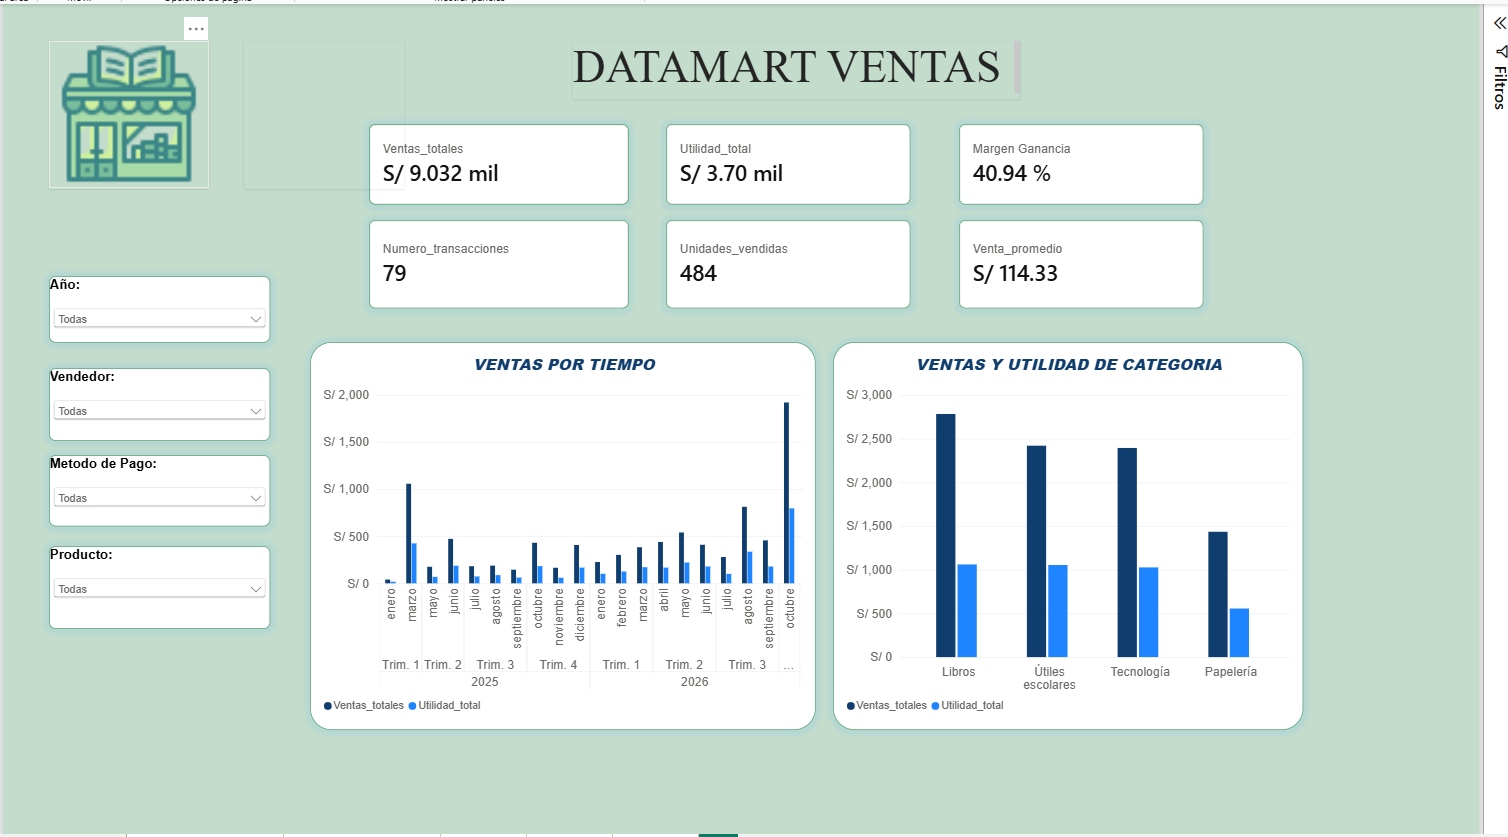

The page's visual inventory and layout, read from the dashboard file:
{"tool":"powerbi","page":{"name":"RESUMEN","canvas":[1920,1080],"ordinal":0},"visuals":[{"type":"cardVisual","title":"VENTAS TOTALES","fields":{"Data":["fac_ventas.Ventas_totales"]},"box":[476.7,156.7,338.3,105],"z":0},{"type":"clusteredColumnChart","title":"VENTAS POR TIEMPO","fields":{"Category":["dim_tiempo.fecha.Variación.Jerarquía de fechas.Año","dim_tiempo.fecha.Variación.Jerarquía de fechas.Trimestre","dim_tiempo.fecha.Variación.Jerarquía de fechas.Mes"],"Y":["fac_ventas.Ventas_totales","fac_ventas.Utilidad_total"]},"box":[400,440,658.3,505],"z":1000},{"type":"cardVisual","fields":{"Data":["fac_ventas.Utilidad_total"]},"box":[863.3,156.7,318.3,105],"z":2000},{"type":"cardVisual","fields":{"Data":["fac_ventas.Margen Ganancia"]},"box":[1243.3,156.7,318.3,105],"z":3000},{"type":"cardVisual","fields":{"Data":["fac_ventas.Numero_transacciones"]},"box":[476.7,281.7,338.3,115],"z":4000},{"type":"cardVisual","fields":{"Data":["fac_ventas.Unidades_vendidas"]},"box":[863.3,281.7,318.3,115],"z":5000},{"type":"cardVisual","fields":{"Data":["fac_ventas.Venta_promedio"]},"box":[1243.3,281.7,318.3,115],"z":6000},{"type":"clusteredColumnChart","title":"VENTAS Y UTILIDAD DE CATEGORIA","fields":{"Category":["dim_producto.categoria"],"Y":["fac_ventas.Ventas_totales","fac_ventas.Utilidad_total"]},"box":[1080,440,611.7,505],"z":7000},{"type":"slicer","fields":{"Values":["dim_tiempo.anio"]},"box":[60,353.3,288.3,86.7],"z":8000},{"type":"slicer","fields":{"Values":["dim_producto.nombre"]},"box":[60,705,288.3,108.3],"z":9000},{"type":"slicer","fields":{"Values":["dim_vendedor.nombre"]},"box":[60,473.3,288.3,95],"z":10000},{"type":"slicer","fields":{"Values":["dim_metodoPago.nombreMetodo"]},"box":[60,586.7,288.3,93.3],"z":11000},{"type":"image","box":[60,48.3,208.3,191.7],"z":12000},{"type":"textbox","box":[741.7,48.3,581.7,75],"z":13000}]}

Visuals, with their boxes on the page's 1920x1080 design canvas (x1, y1, x2, y2). These are canvas units, not pixel positions in the 1508x837 screenshot, which may show the page scaled, cropped or inside an application window:
"VENTAS TOTALES" cardVisual: select_region(477, 157, 815, 262)
"VENTAS POR TIEMPO" clusteredColumnChart: select_region(400, 440, 1058, 945)
cardVisual - fac_ventas.Utilidad_total: select_region(863, 157, 1182, 262)
cardVisual - fac_ventas.Margen Ganancia: select_region(1243, 157, 1562, 262)
cardVisual - fac_ventas.Numero_transacciones: select_region(477, 282, 815, 397)
cardVisual - fac_ventas.Unidades_vendidas: select_region(863, 282, 1182, 397)
cardVisual - fac_ventas.Venta_promedio: select_region(1243, 282, 1562, 397)
"VENTAS Y UTILIDAD DE CATEGORIA" clusteredColumnChart: select_region(1080, 440, 1692, 945)
slicer - dim_tiempo.anio: select_region(60, 353, 348, 440)
slicer - dim_producto.nombre: select_region(60, 705, 348, 813)
slicer - dim_vendedor.nombre: select_region(60, 473, 348, 568)
slicer - dim_metodoPago.nombreMetodo: select_region(60, 587, 348, 680)
image: select_region(60, 48, 268, 240)
textbox: select_region(742, 48, 1323, 123)
